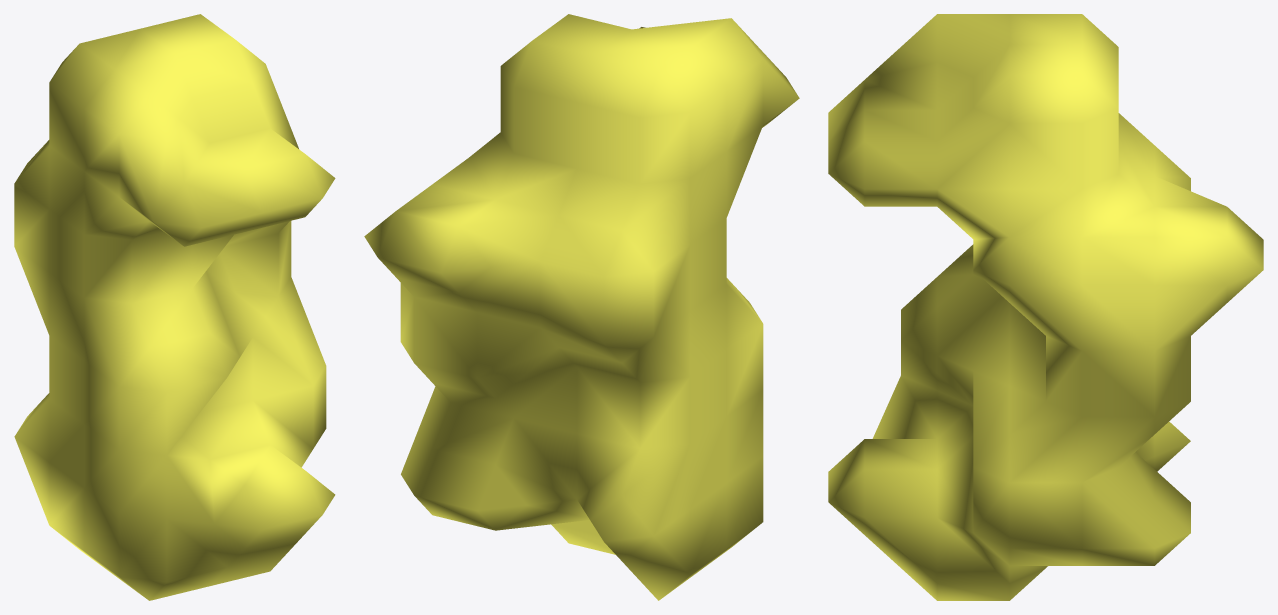
Rendered from spl-339.glb.
3 views of the same model, side by side, from view 1: azimuth 30°, elevation 25°; view 2: azimuth 150°, elevation 25°; view 3: azimuth 270°, elevation 25° (orthographic). The views are drawn at different scales.
Parts seen in each view (by area): view 1: spl-339; view 2: spl-339; view 3: spl-339.
Part boxes in pixels (<box>): spl-339: <box>14,14,335,600</box>; spl-339: <box>364,14,799,600</box>; spl-339: <box>828,14,1263,600</box>.
Bounding box in the file's own units: 4 × 8 × 6.
